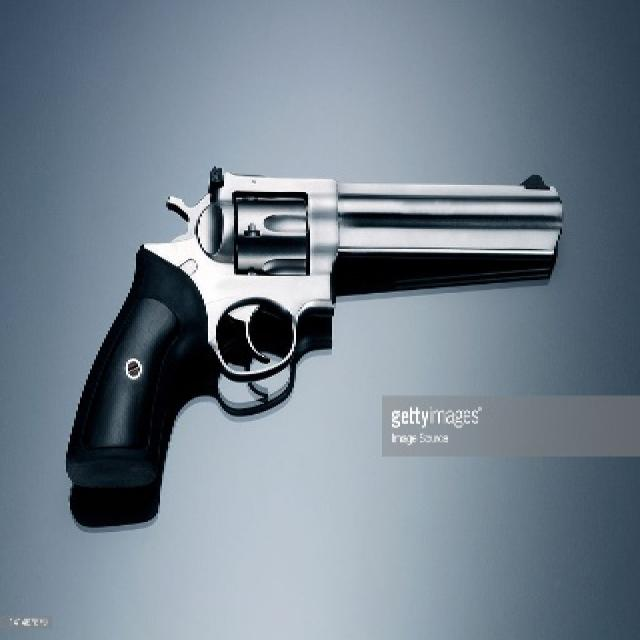handgun: (63, 165, 565, 490)
